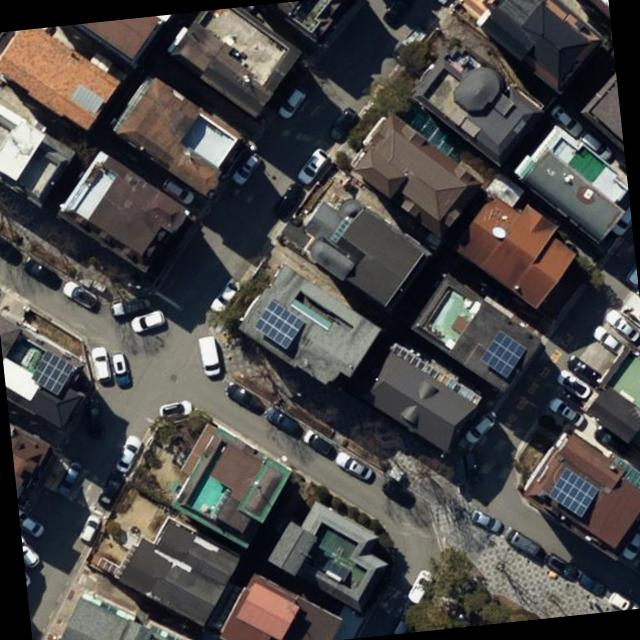solar: (250, 294, 308, 354), (544, 463, 602, 523), (476, 326, 530, 382), (27, 345, 78, 399)
